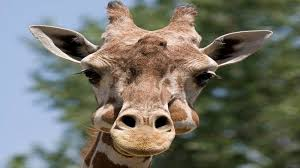Jirafa: (21, 6, 292, 163)
